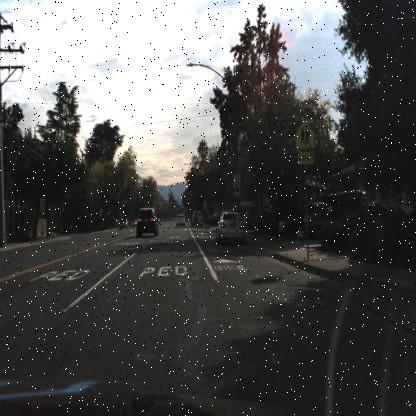car: (320, 191, 391, 227), (214, 210, 246, 246), (298, 191, 321, 240), (132, 203, 160, 239), (174, 208, 188, 229), (189, 208, 203, 229), (118, 218, 128, 229)
